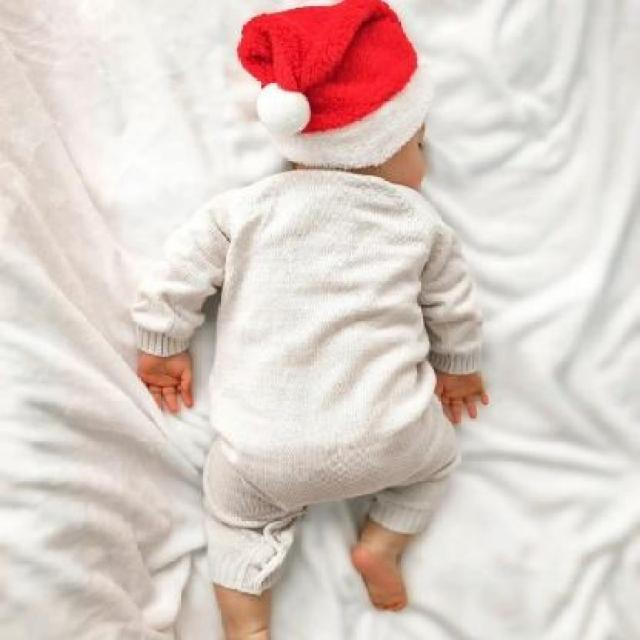baby: (133, 0, 489, 638)
